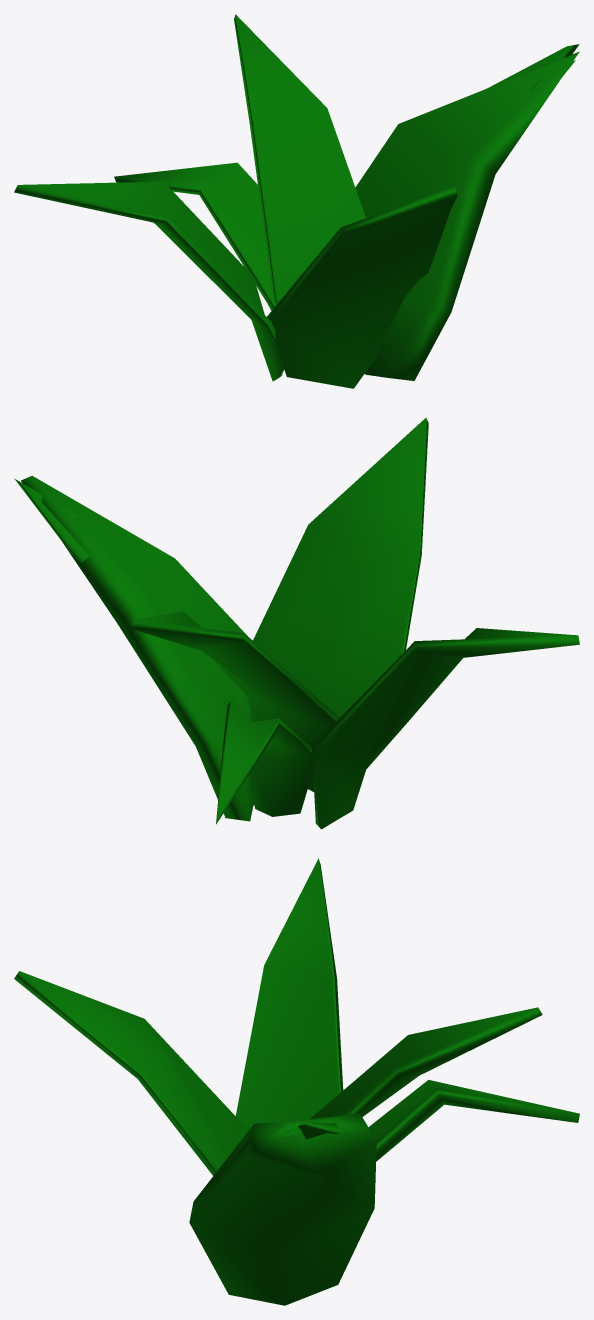
The model's file is grass_2.fbx.
The picture shows the model from 3 angles, top to bottom: view 1: azimuth 30°, elevation 25°; view 2: azimuth 150°, elevation 25°; view 3: azimuth 270°, elevation 25°; orthographic projection. The views are drawn at different scales.
Parts seen in each view (by area): view 1: pPlane2; view 2: pPlane2; view 3: pPlane2.
Boxes of the visible parts, x1,y1,x2,y2 form: pPlane2: [14, 14, 579, 388]; pPlane2: [14, 417, 579, 829]; pPlane2: [14, 858, 579, 1305].
Size of the model in its own units: 3.22 by 1.61 by 2.75.
